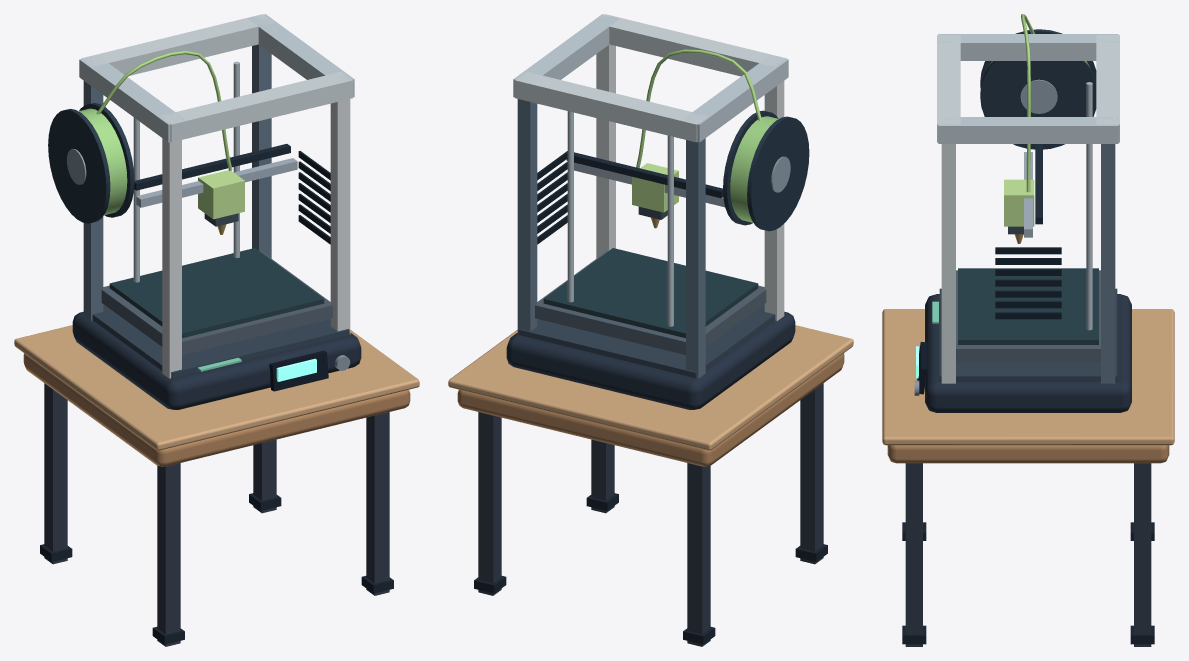
The model's file is printer.glb.
3 renders of one model, left to right at view 1: azimuth 30°, elevation 25°; view 2: azimuth 150°, elevation 25°; view 3: azimuth 270°, elevation 25°, orthographic.
Parts seen in each view (by area): view 1: PrinterStructure, FilamentSpool, Gantry, NozzleHead; view 2: PrinterStructure, FilamentSpool, Gantry, NozzleHead; view 3: PrinterStructure, FilamentSpool, NozzleHead, Gantry.
Part boxes in pixels (x1,y1,x2,y2): PrinterStructure: (14, 14, 419, 646); FilamentSpool: (48, 103, 134, 223); Gantry: (134, 144, 297, 207); NozzleHead: (198, 170, 244, 234); PrinterStructure: (448, 14, 853, 646); FilamentSpool: (723, 110, 809, 231); Gantry: (566, 152, 724, 207); NozzleHead: (632, 163, 678, 228); PrinterStructure: (882, 14, 1174, 646); FilamentSpool: (980, 29, 1096, 149); NozzleHead: (1004, 179, 1034, 243); Gantry: (1024, 144, 1042, 237).
Size of the model in its own units: 1.18 by 2.25 by 1.1.
